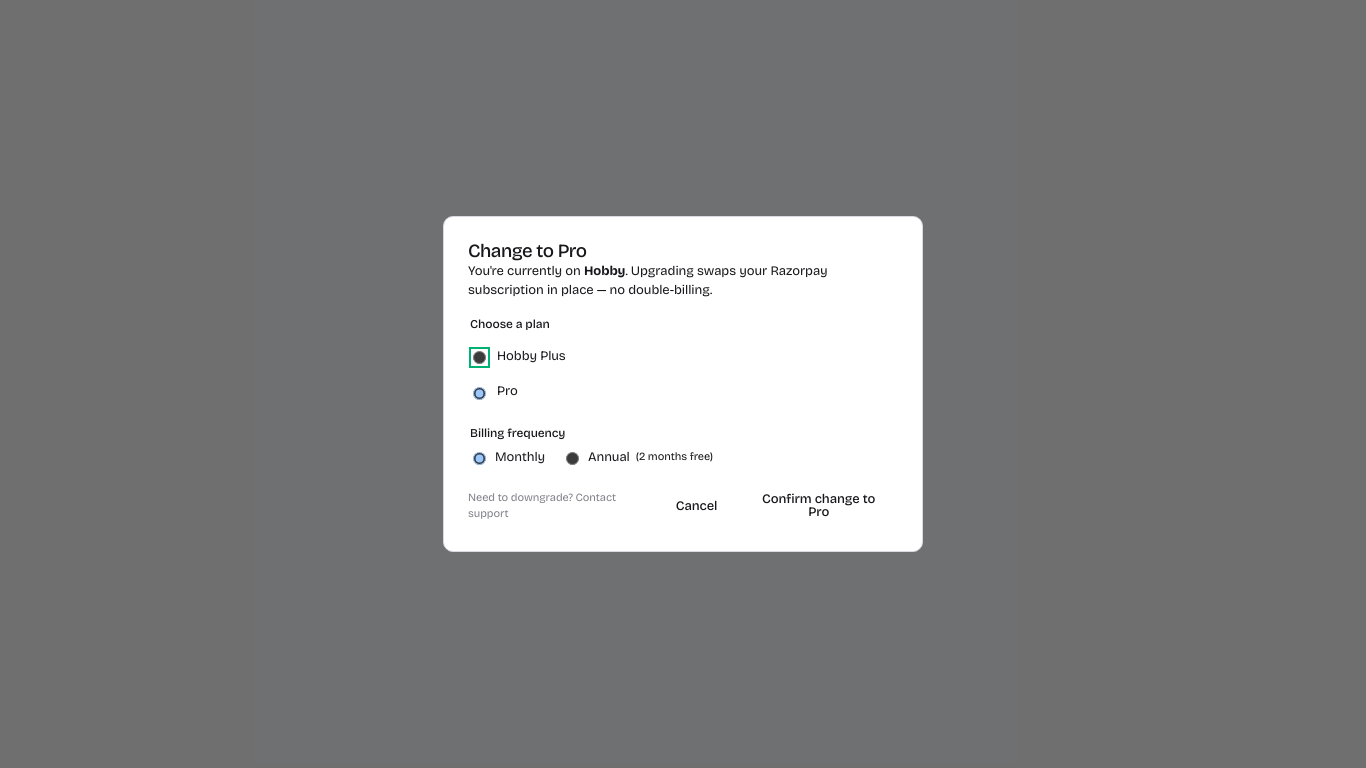
Test: ChangePlanModal — confirm flow › renders the Contact-support fallback on a 5xx
Click the button with test id "change-plan-confirm" at [819, 506], box [739,485,898,527]
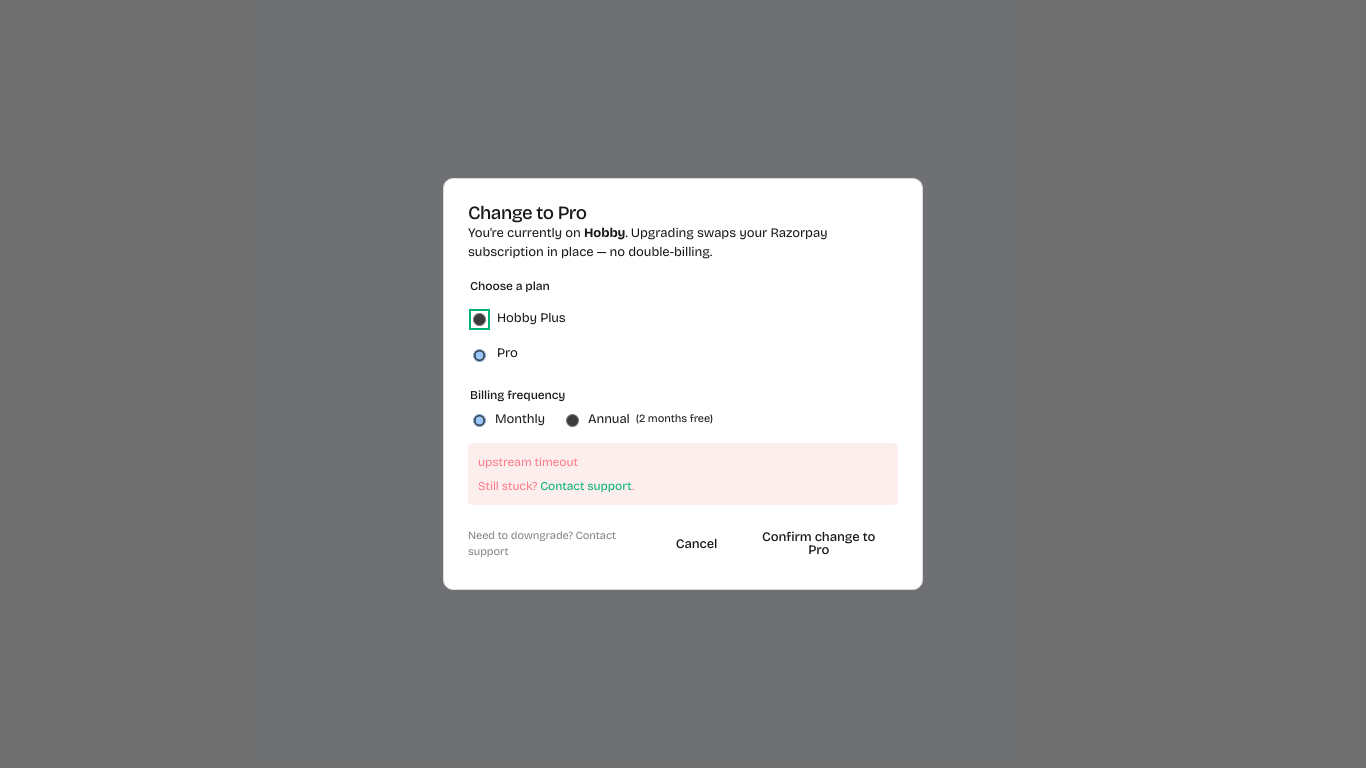
Expected: the link with test id "change-plan-support-fallback" is shown, [540,479,632,493]
